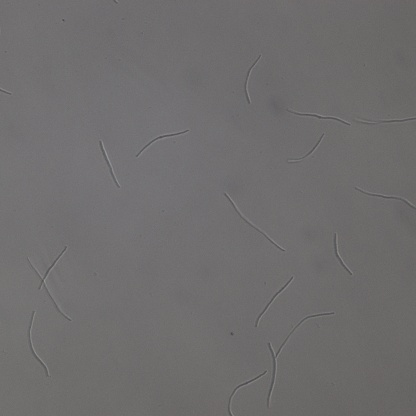Sensitive: (266, 313, 334, 408), (28, 244, 71, 320), (225, 194, 283, 249), (225, 371, 267, 416), (257, 277, 292, 325), (25, 311, 48, 375), (136, 130, 189, 155), (355, 188, 416, 207), (288, 134, 323, 163), (243, 54, 262, 104), (289, 110, 350, 125), (100, 141, 119, 188), (331, 232, 352, 274), (354, 112, 416, 126)
